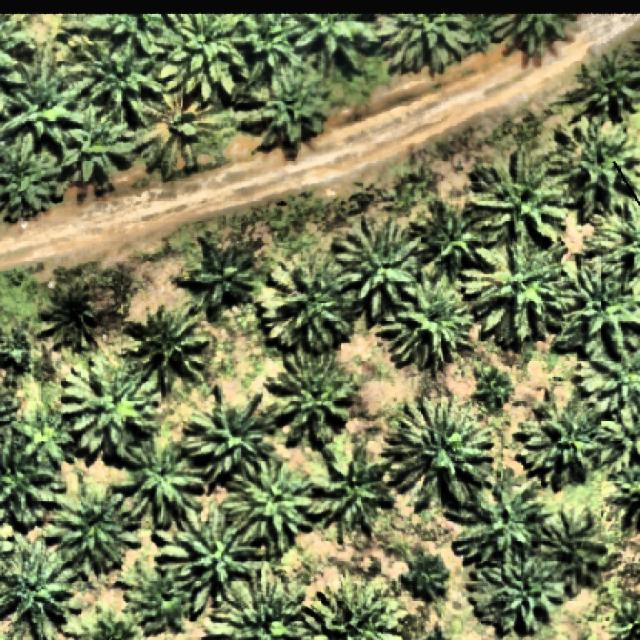Kelapa_Sawit: (382, 394, 496, 514), (154, 504, 260, 618), (55, 357, 160, 468), (462, 143, 570, 248), (446, 470, 556, 572), (463, 242, 565, 350), (180, 384, 278, 494), (332, 215, 426, 328), (44, 476, 142, 581), (378, 271, 474, 377), (69, 32, 171, 130), (258, 255, 358, 353), (266, 342, 356, 447), (223, 454, 314, 557), (118, 426, 206, 532), (130, 84, 222, 181), (308, 441, 390, 547), (518, 394, 604, 492), (470, 548, 564, 637), (123, 301, 209, 394), (5, 51, 84, 150), (412, 196, 499, 282), (242, 64, 333, 144), (52, 100, 132, 185), (536, 507, 610, 598), (186, 232, 254, 316), (120, 556, 185, 636), (39, 284, 104, 352), (13, 399, 75, 470), (399, 548, 452, 604), (472, 362, 516, 410)
